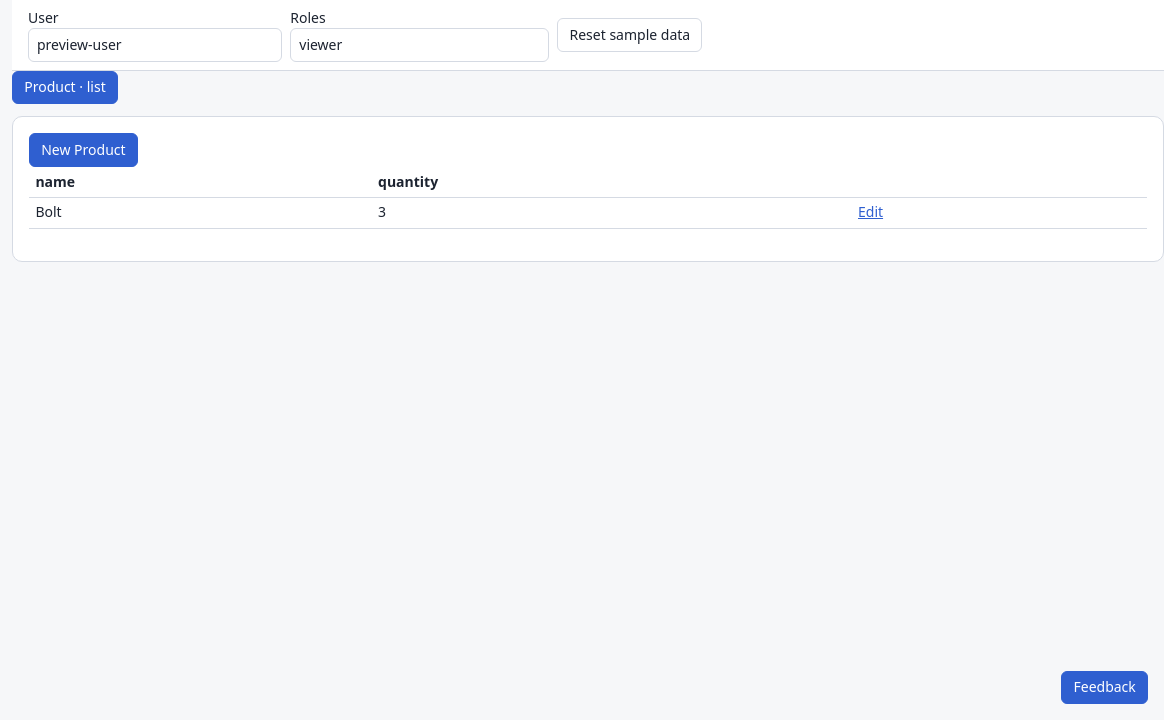
Test: Preview › edits a row, and shows the server’s refusal
Click the button with aria-label "Edit row 1".
click(871, 213)  # box x1=854 y1=202 x2=887 y2=223
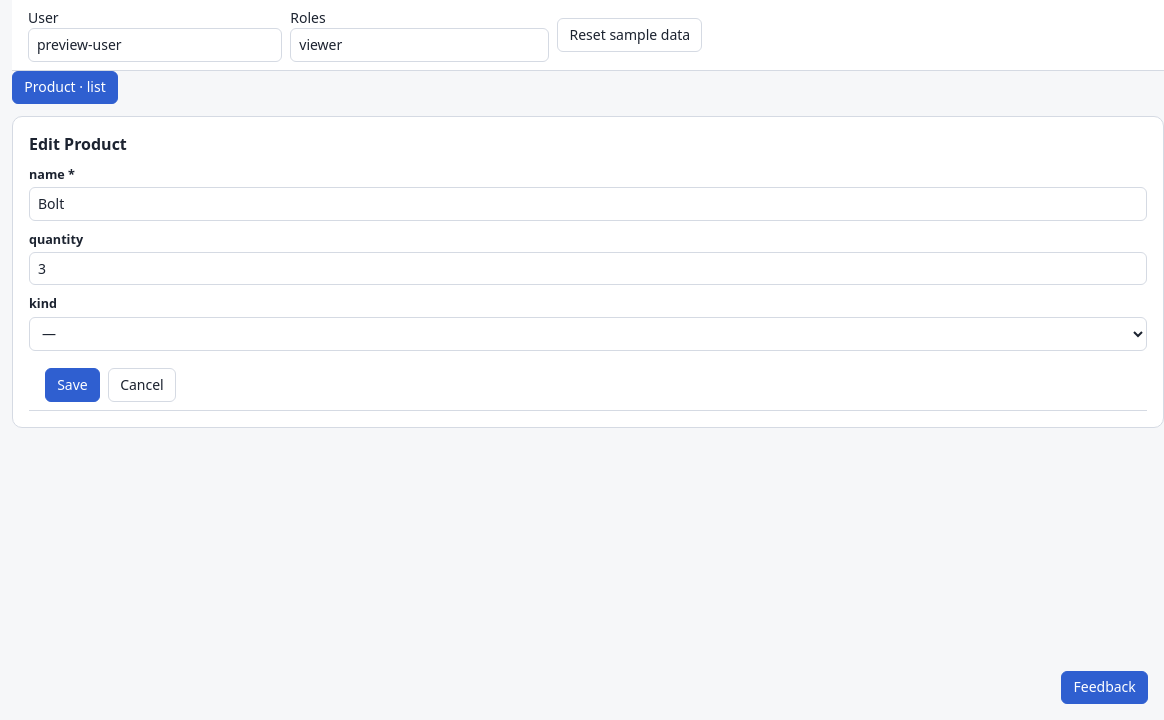
Now the field labelled "name *" holds "Bolt", box x1=29 y1=188 x2=1147 y2=221
Click the button "Save".
click(72, 385)  # box x1=45 y1=368 x2=100 y2=402
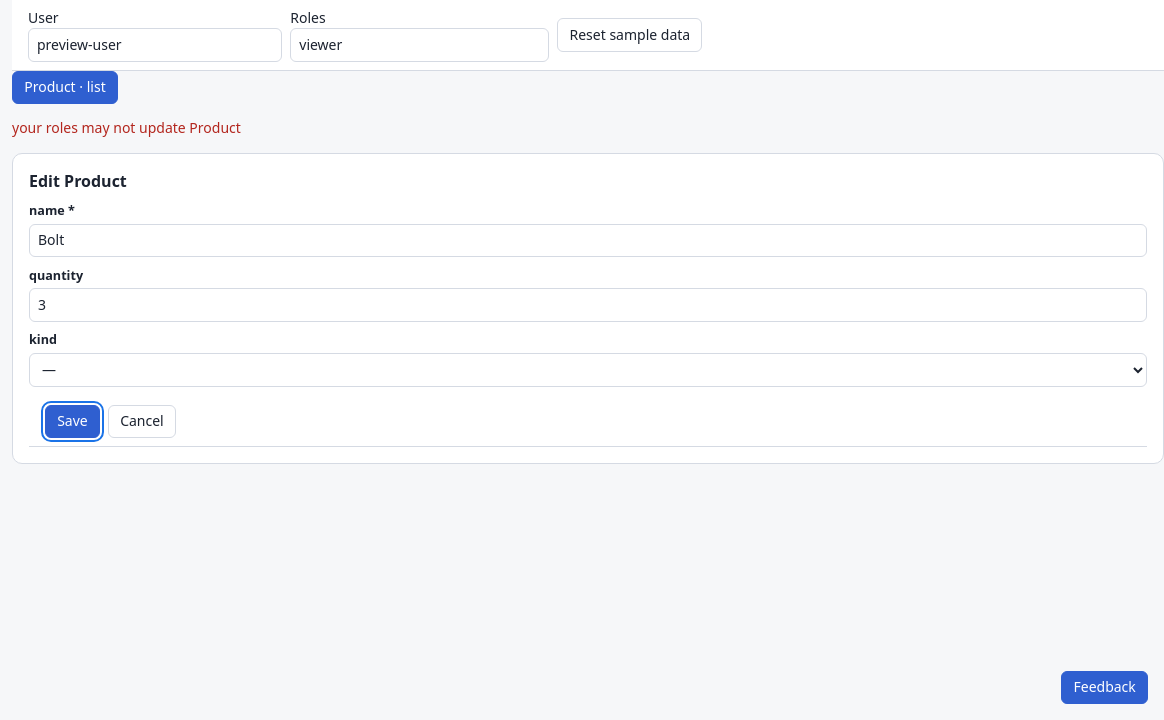
Now the message reads "your roles may not update Product", box x1=12 y1=118 x2=241 y2=137
